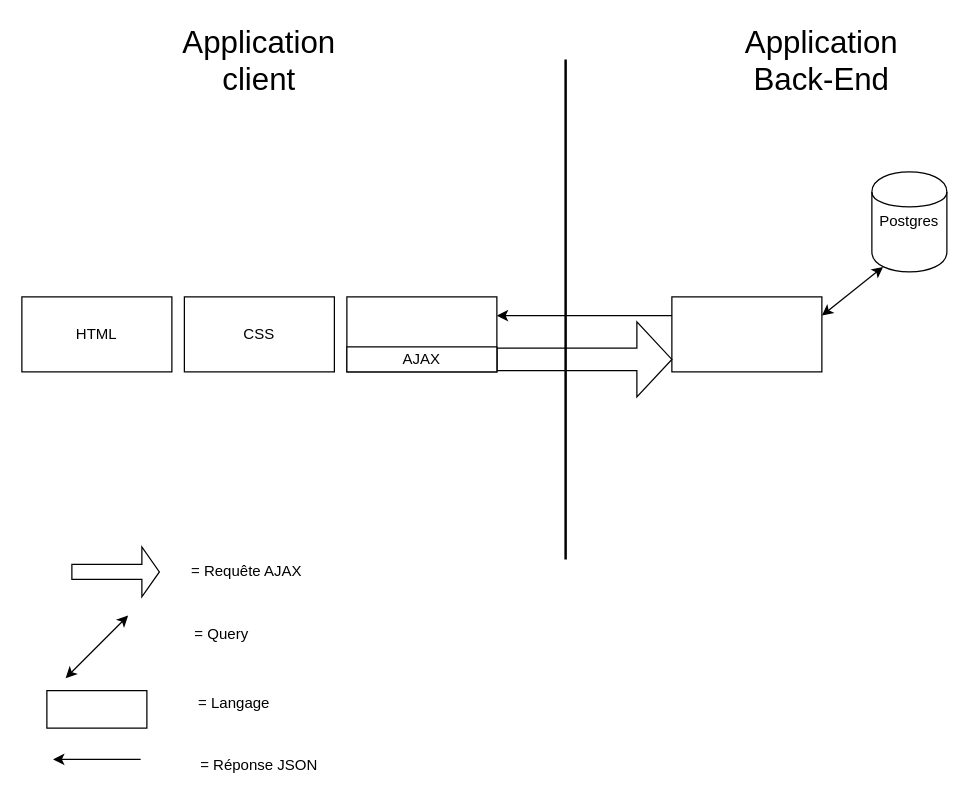
Image size: 969x799. Some labels were removed from this diagram. Here are the shapes that lost their labels. From the top down, the box of each, then its label:
(346, 296, 497, 372): JavaScript
(671, 296, 822, 372): Node.JS
